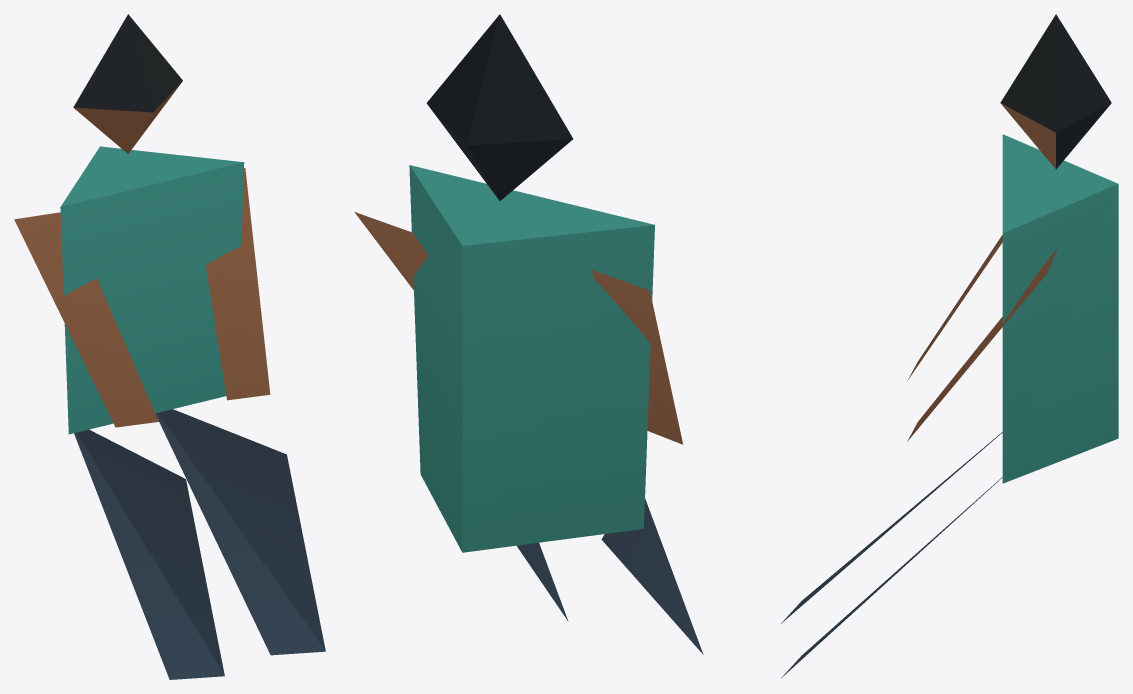
The model's file is fan-02.glb.
3 views of the same model, side by side, from view 1: azimuth 30°, elevation 25°; view 2: azimuth 150°, elevation 25°; view 3: azimuth 270°, elevation 25° (orthographic). The views are drawn at different scales.
Parts seen in each view (by area): view 1: fan-02; view 2: fan-02; view 3: fan-02.
Part boxes in pixels (<box>): fan-02: <box>14,14,325,679</box>; fan-02: <box>354,14,703,654</box>; fan-02: <box>781,14,1118,677</box>.
Size of the model in its own units: 0.65 by 1.55 by 0.76.
